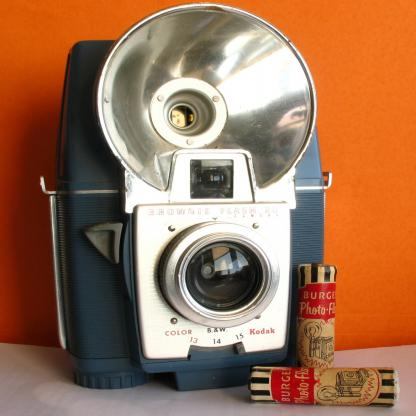Camera: (43, 3, 336, 394)
